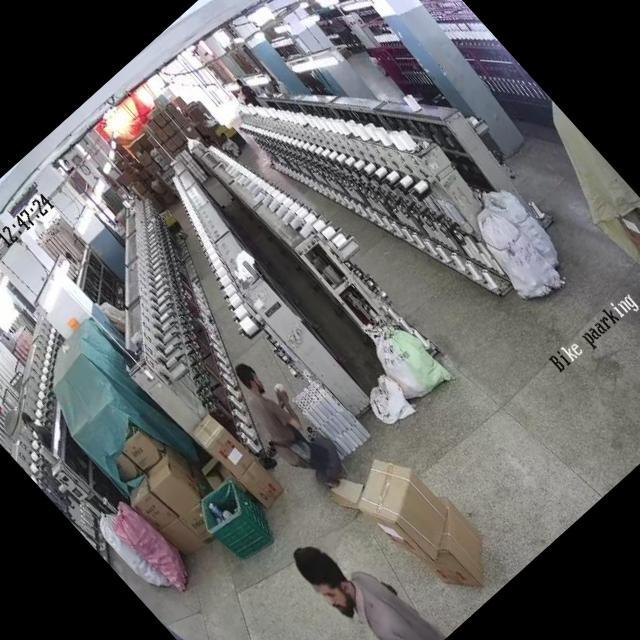person: (277, 507, 444, 640), (223, 352, 350, 486), (18, 407, 54, 445), (232, 74, 260, 104)
